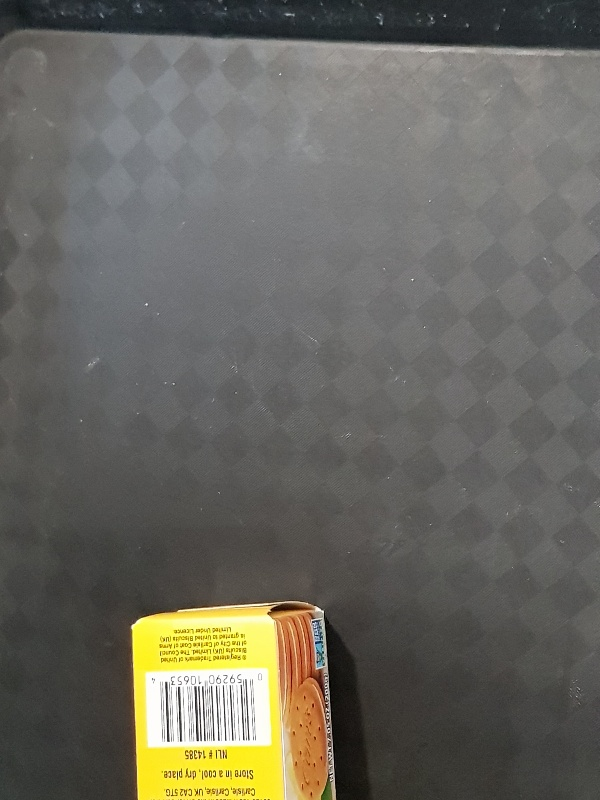Carr's Ginger Lemon Cremes: (128, 599, 338, 800)
